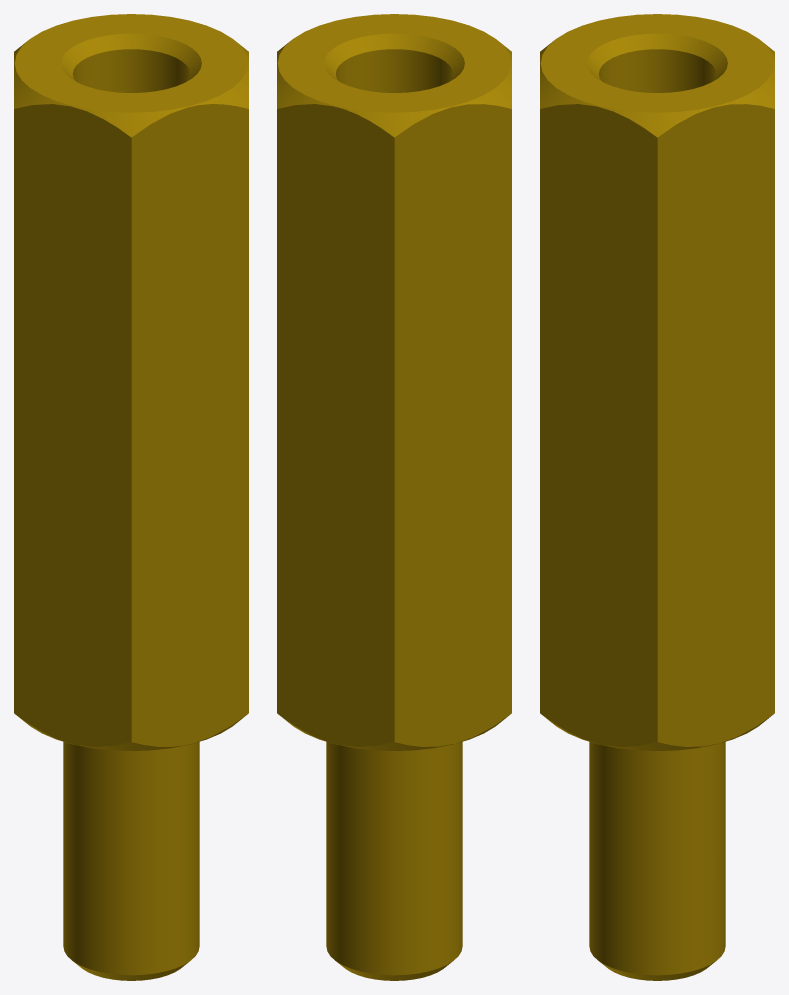
File: M3_M_TO_F_15MM_STANDOFF.glb
3 views of the same model, side by side, from view 1: azimuth 30°, elevation 25°; view 2: azimuth 150°, elevation 25°; view 3: azimuth 270°, elevation 25° (orthographic).
Visible parts, largest first — view 1: M3_M_TO_F_15MM_STANDOFF; view 2: M3_M_TO_F_15MM_STANDOFF; view 3: M3_M_TO_F_15MM_STANDOFF.
Boxes of the visible parts, x1,y1,x2,y2 form: M3_M_TO_F_15MM_STANDOFF: [14, 14, 248, 980]; M3_M_TO_F_15MM_STANDOFF: [277, 14, 511, 980]; M3_M_TO_F_15MM_STANDOFF: [540, 14, 774, 980].
Size of the model in its own units: 0.00577 by 0.021 by 0.005.
